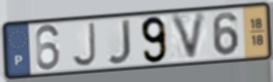6: (34, 23, 62, 73), (211, 10, 240, 58)
9: (139, 15, 169, 65)
J: (70, 21, 98, 69), (106, 18, 133, 66)
V: (168, 10, 209, 64)
